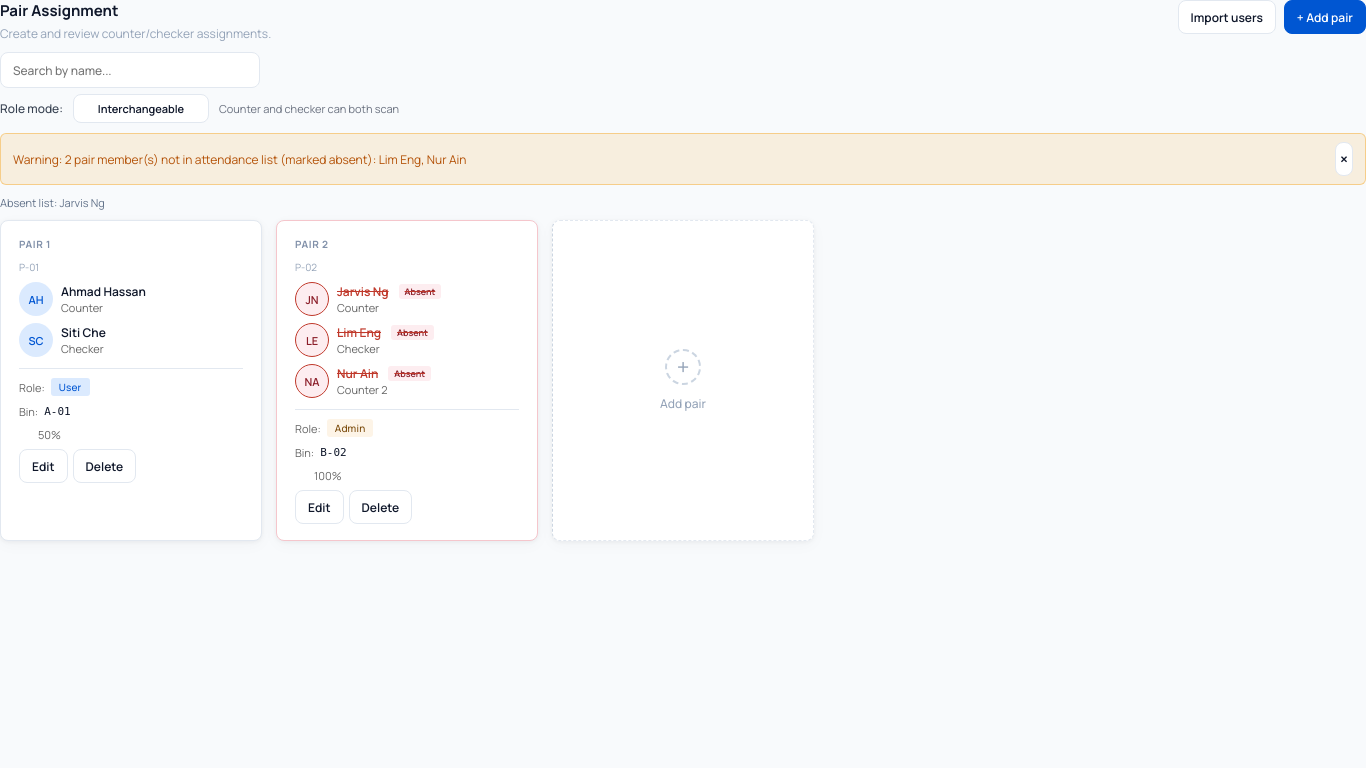
Scenario: PairAssignmentTab › replaces an absent pair member from repair flow
Click the text "P-02" at (306, 267), box [295,260,317,274]
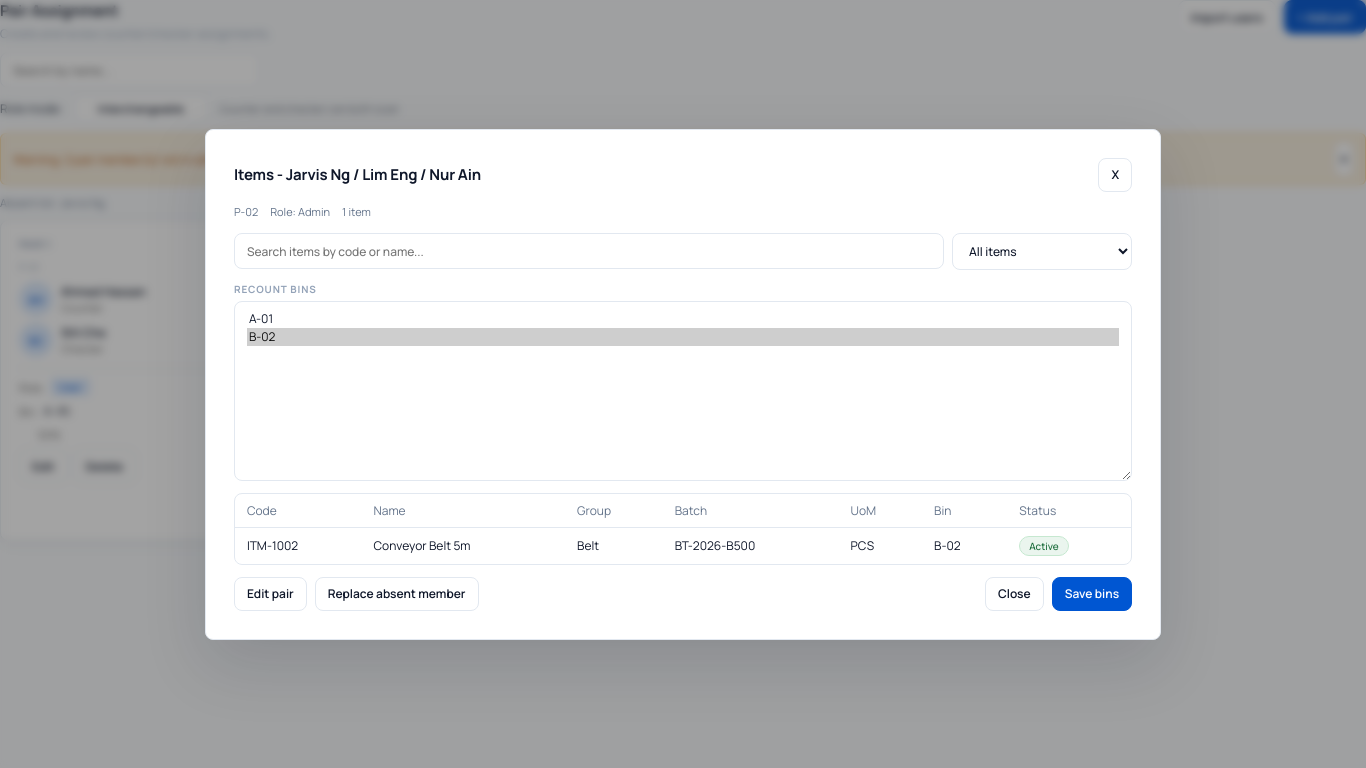
Click the button "Replace absent member" at (397, 594), box [315,576,478,610]
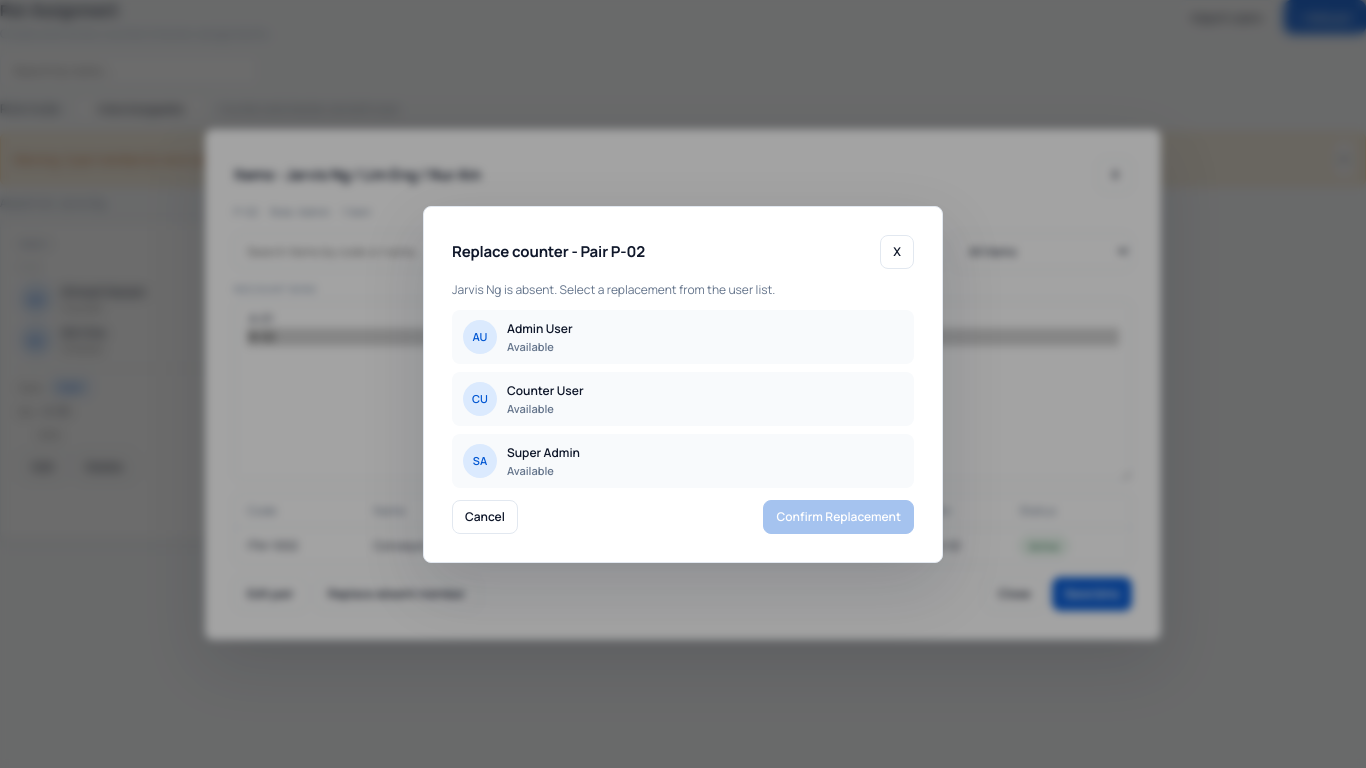
Click the button "AU Admin User Available" at (480, 336), box [452,310,914,364]
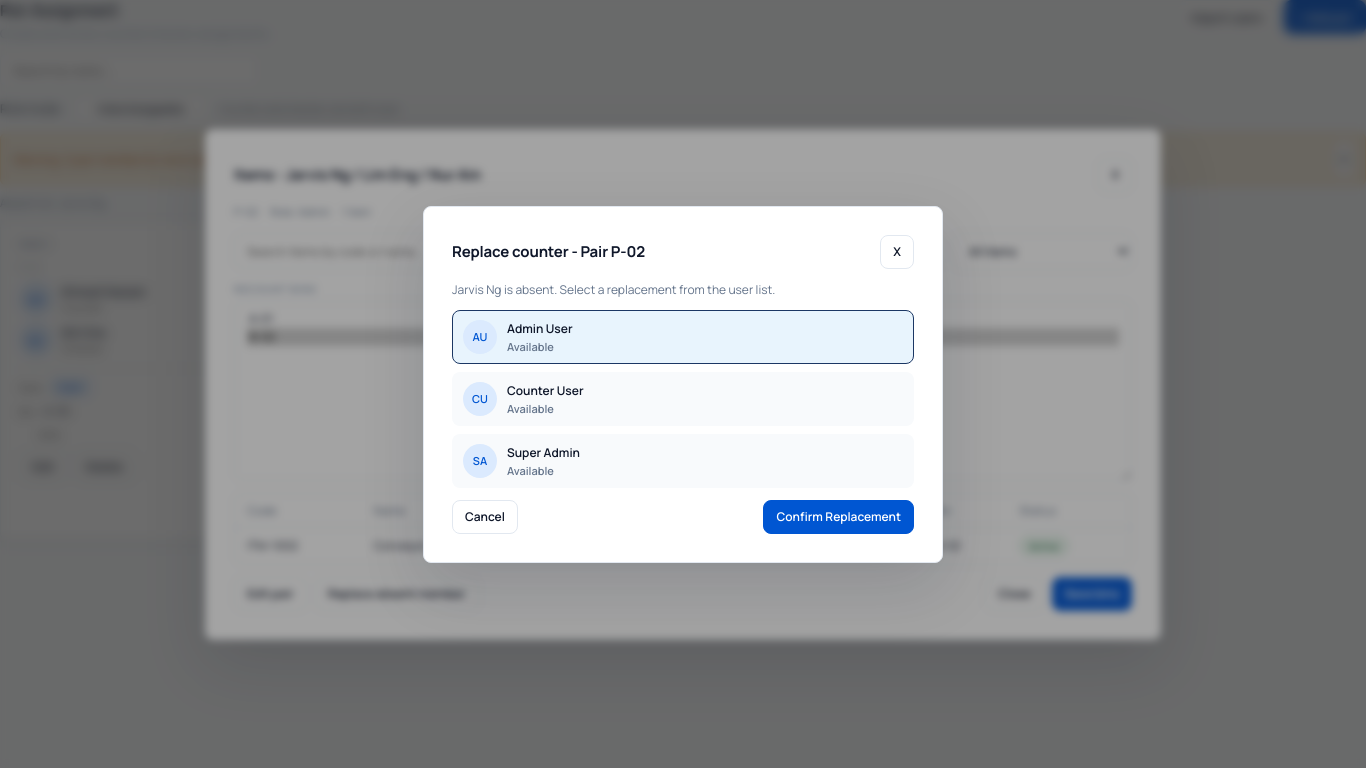
Click the button "Confirm Replacement" at (839, 516), box [764,500,914,534]
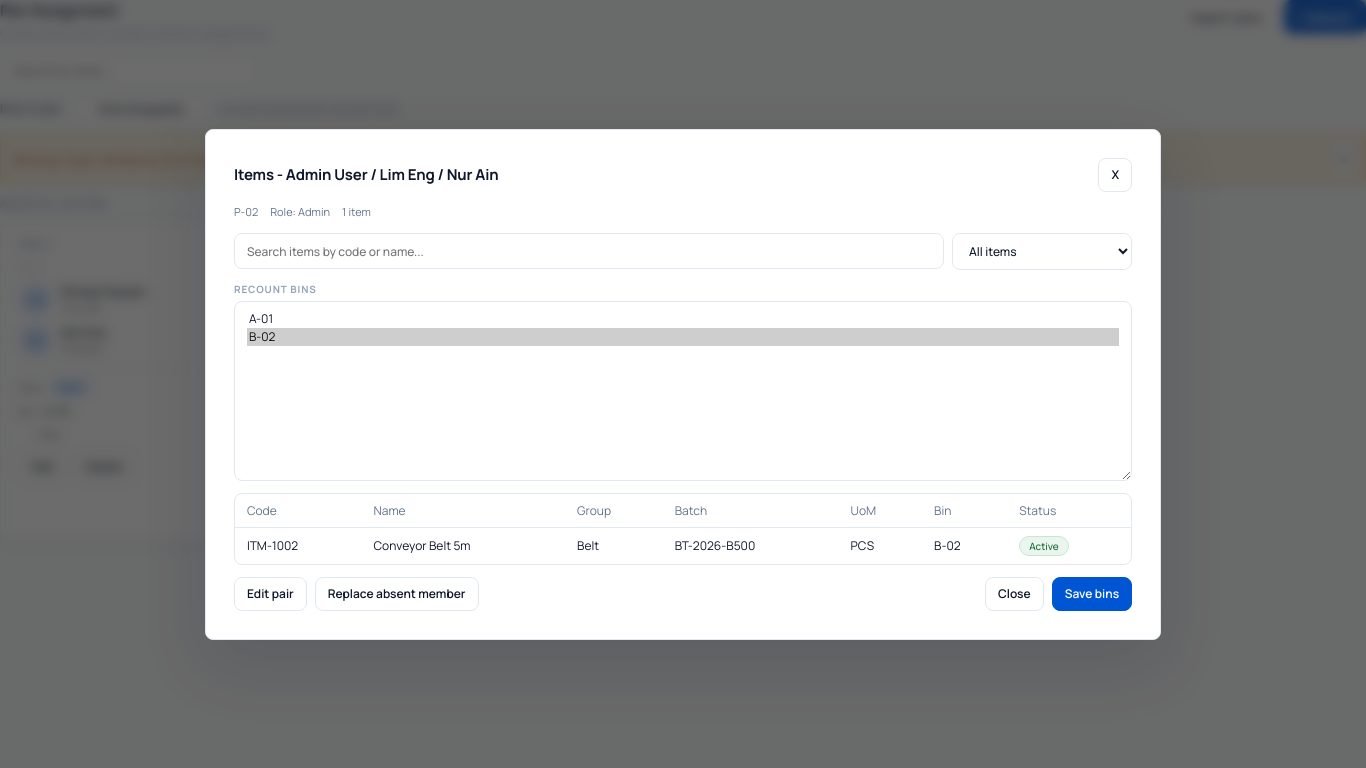
Expected: the text "Admin User" is shown, [337,283,402,300]
